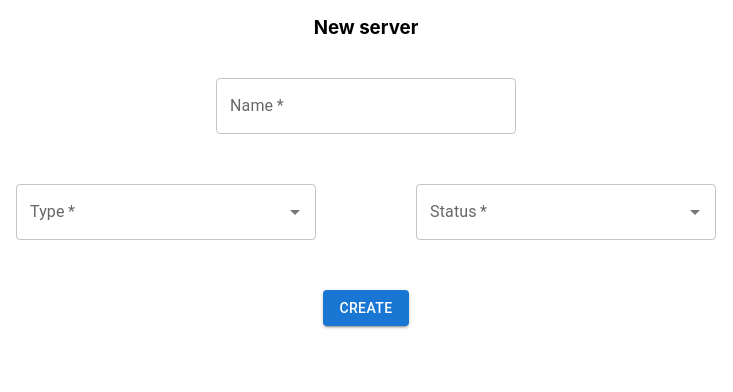
ServerDetail component Create tests › Servers detail Create with required issue
Expected: the heading "New server" is shown, [314, 16, 418, 39]
Expected: the field labelled "Name" is empty, [216, 78, 516, 134]
Click the link "Create": (366, 308) [323, 290, 408, 326]
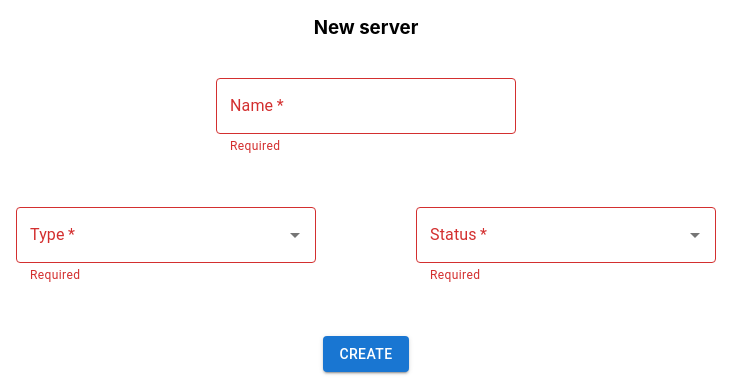
Expected: the text "Required" is shown 3 times, [230, 139, 280, 153]; [30, 268, 80, 282]; [430, 268, 480, 282]
